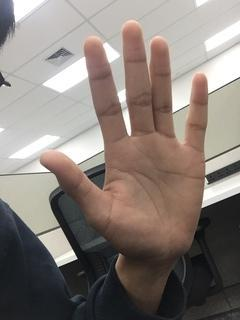hand: (38, 19, 211, 262)
